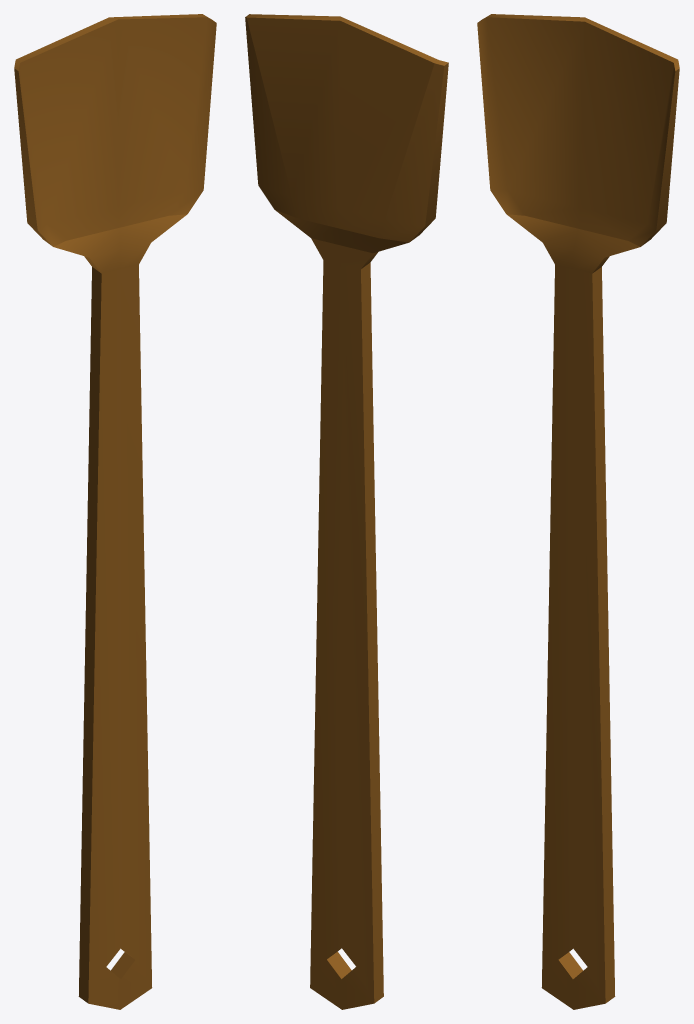
The model's file is sutil_kotak.fbx.
3 views of the same model, side by side, from view 1: azimuth 30°, elevation 25°; view 2: azimuth 150°, elevation 25°; view 3: azimuth 330°, elevation 25° (orthographic).
Parts seen in each view (by area): view 1: sutil kotak; view 2: sutil kotak; view 3: sutil kotak.
Part boxes in pixels (x1,y1,x2,y2): sutil kotak: [14, 14, 216, 1009]; sutil kotak: [245, 14, 448, 1009]; sutil kotak: [477, 14, 679, 1009].
Size of the model in its own units: 24.7 by 117 by 2.99.
